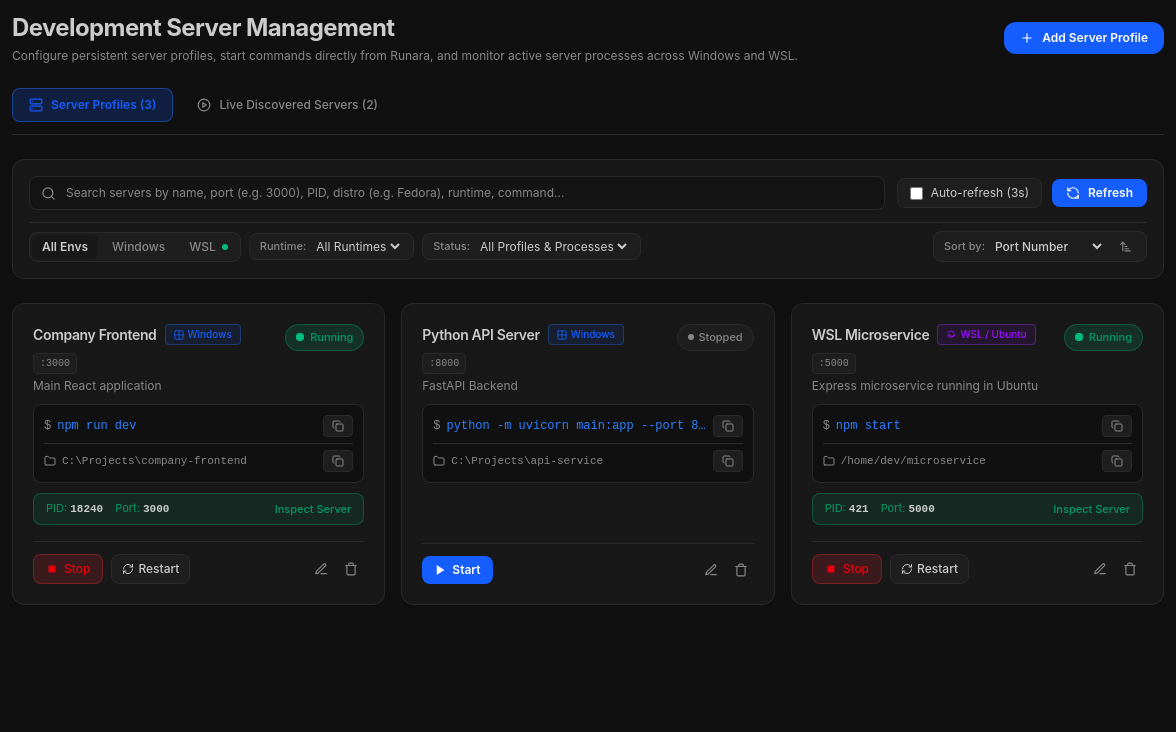
Scenario: Servers & Profiles Management (Milestone 7) › filters profile cards by search query
Check: the heading "Company Frontend" is shown, box left=33, top=324, right=156, bottom=344
Replace the text in the field with placeholder "Search servers" with "8000": (457, 193) left=29, top=176, right=885, bottom=210
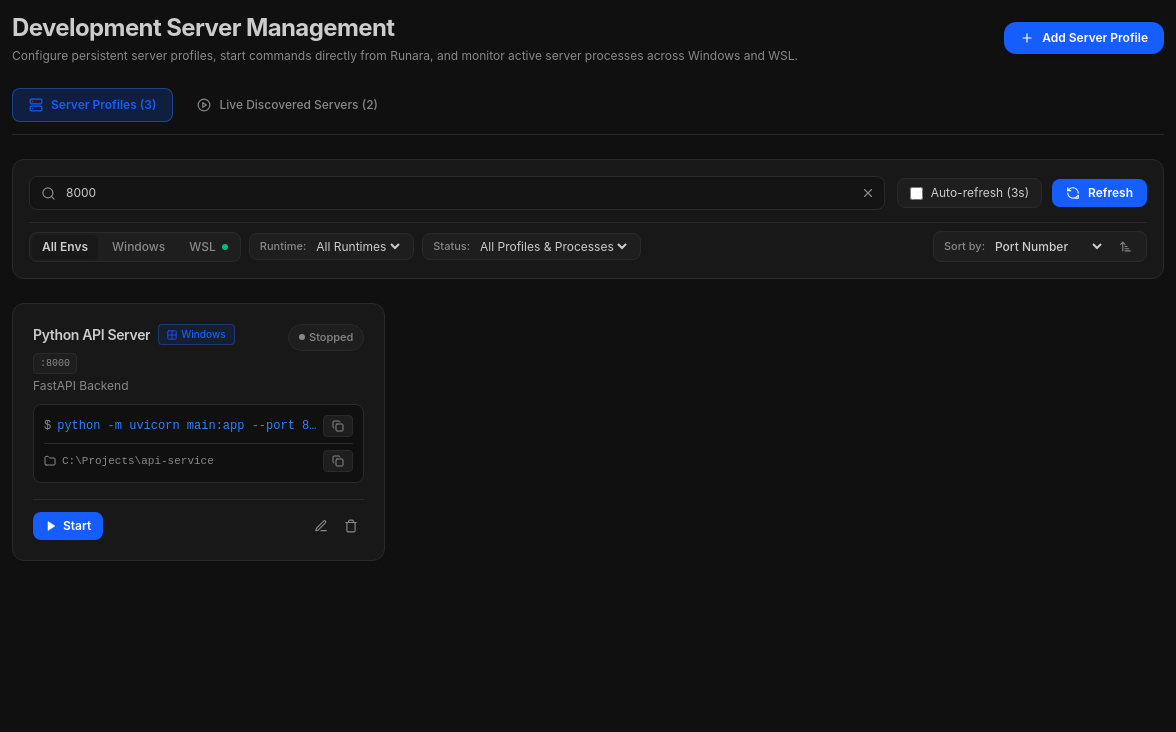
Check: the heading "Python API Server" is shown, box left=33, top=324, right=150, bottom=344
Check: the heading "Company Frontend" is gone
Check: the heading "WSL Microservice" is gone
